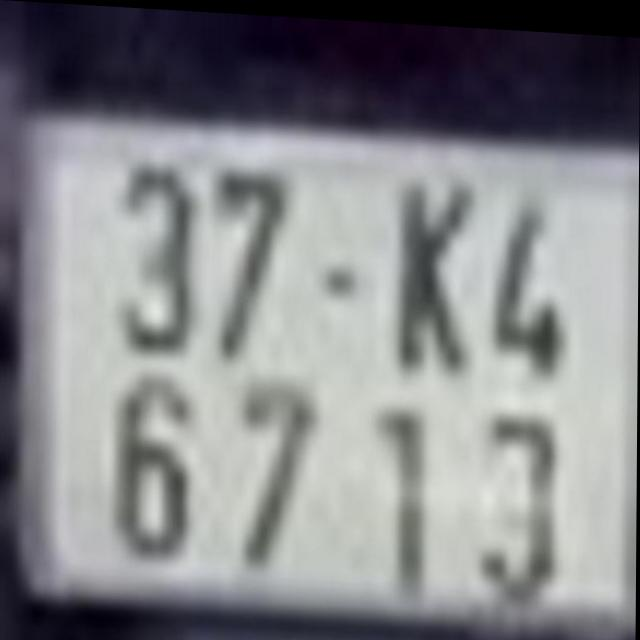1: (380, 393, 433, 604)
3: (474, 396, 563, 592), (115, 148, 194, 356)
4: (487, 176, 569, 373)
6: (108, 366, 202, 564)
7: (228, 369, 312, 569), (206, 159, 274, 362)
K: (380, 161, 476, 374)
